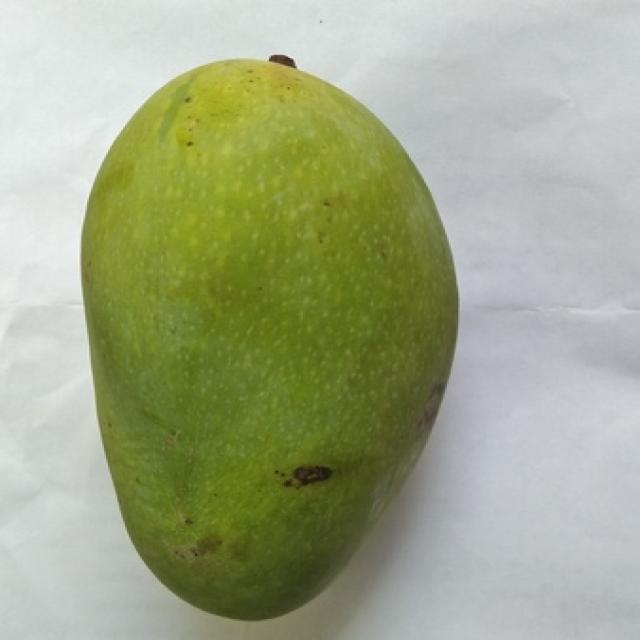Mango: (81, 60, 456, 619)
